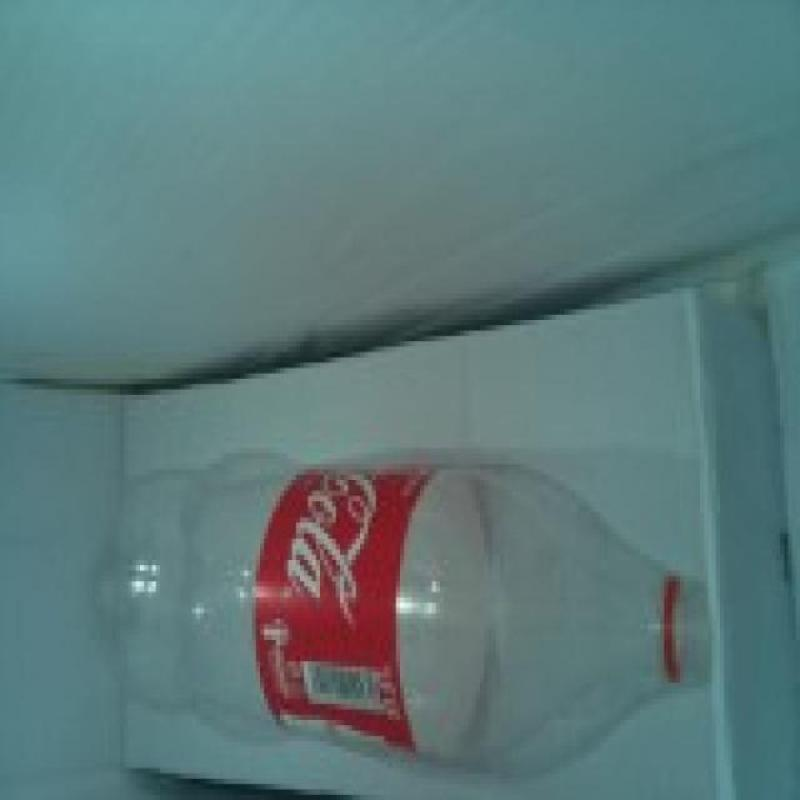botella: (93, 451, 698, 780)
